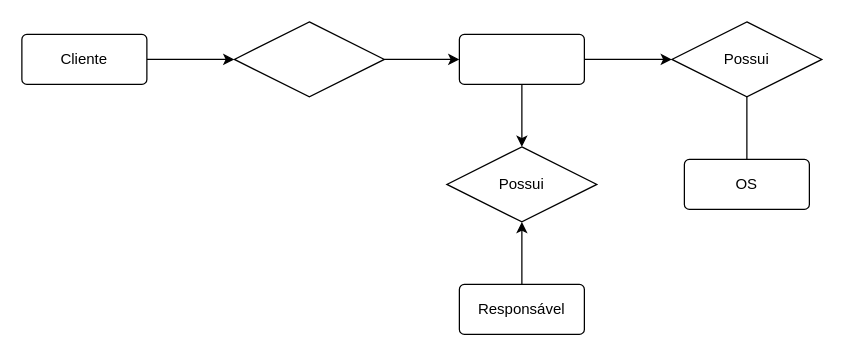
This 844x356 diagram has some shape labels left out. The shapes that lost their labels are listed below. From the top down, each one's centre as x and y in pixels, then its label:
(x=308, y=59): Relationship
(x=521, y=58): Pedido
